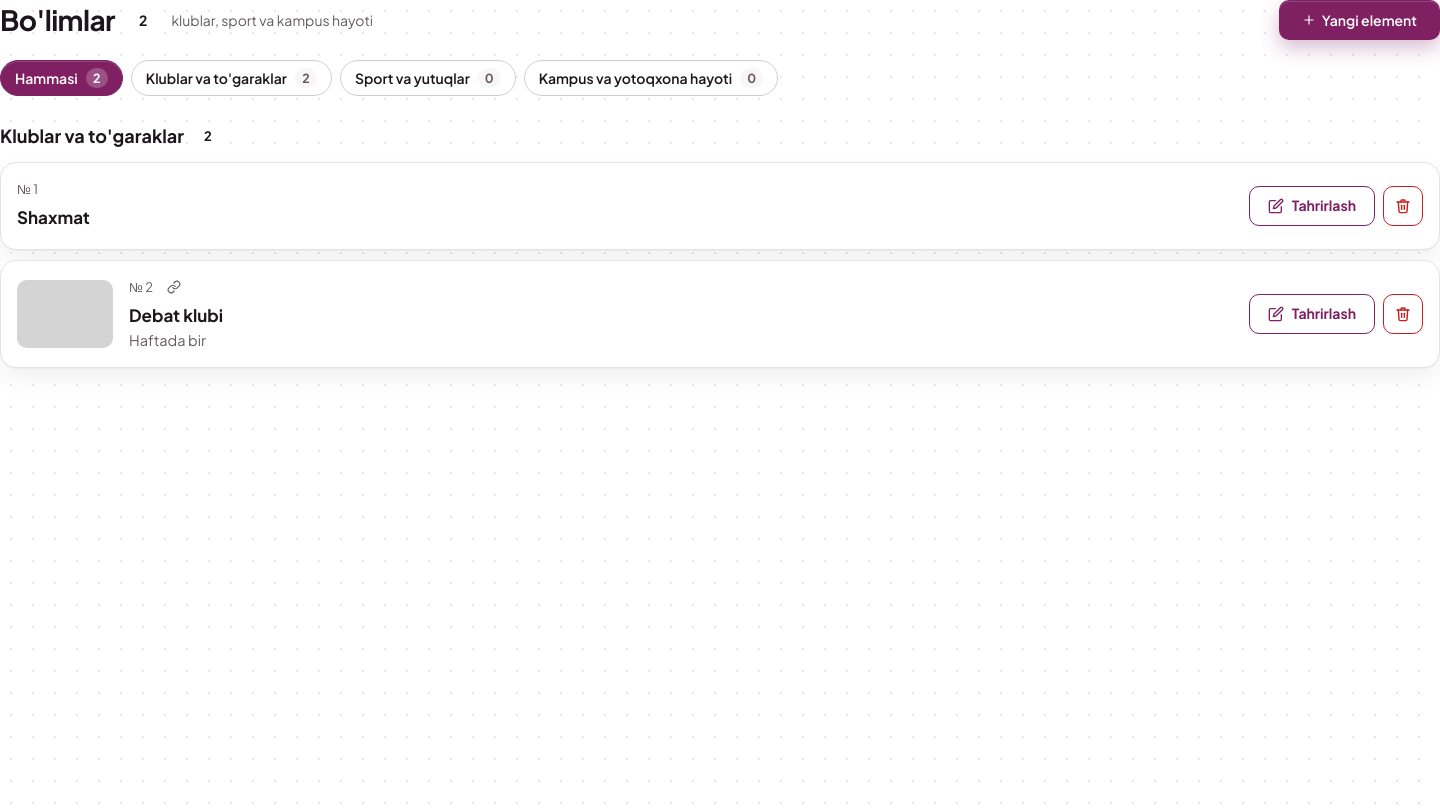
Test: SectionsAdmin: o'chirish › tasdiqdan keyin DELETE ketadi va qator yo'qoladi
This screenshot has width=1440, height=810.
Expected: the heading "Shaxmat" is shown, [17,206,90,228]
Click the button named "O'chirish" at [1403, 206], box [1383,186,1423,226]
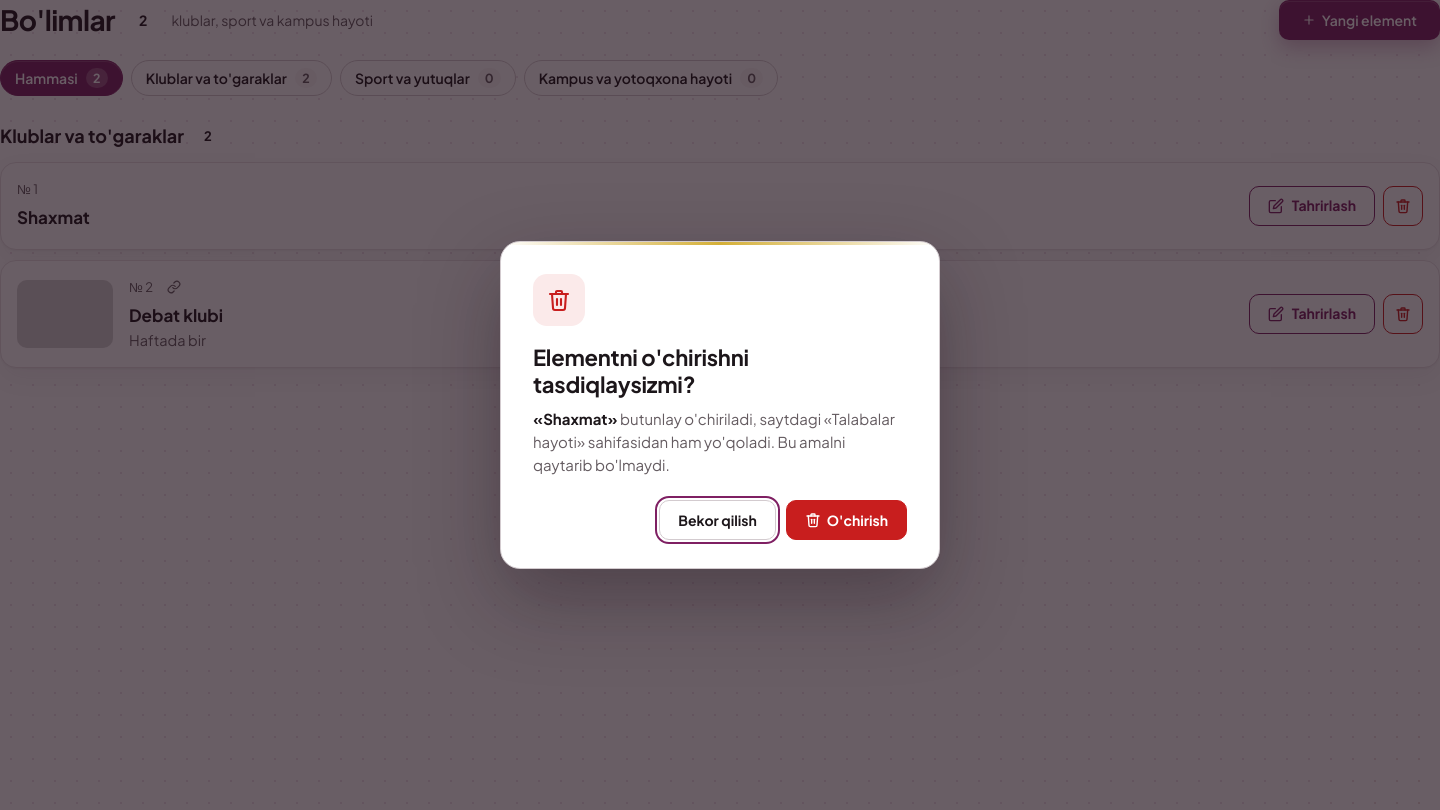
Click the button "O'chirish" at [846, 520], box [786,500,907,540]
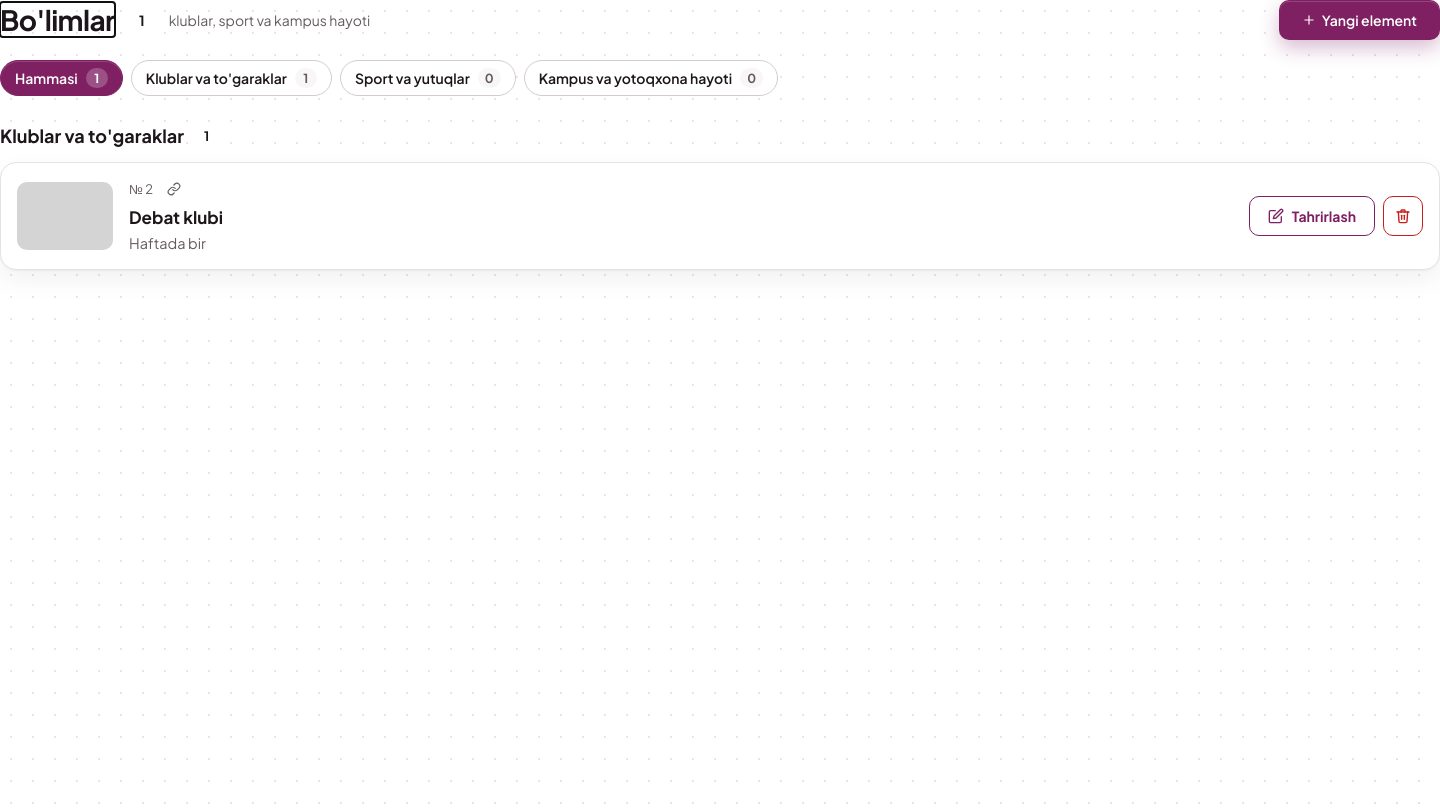
Now the heading "Shaxmat" is gone
